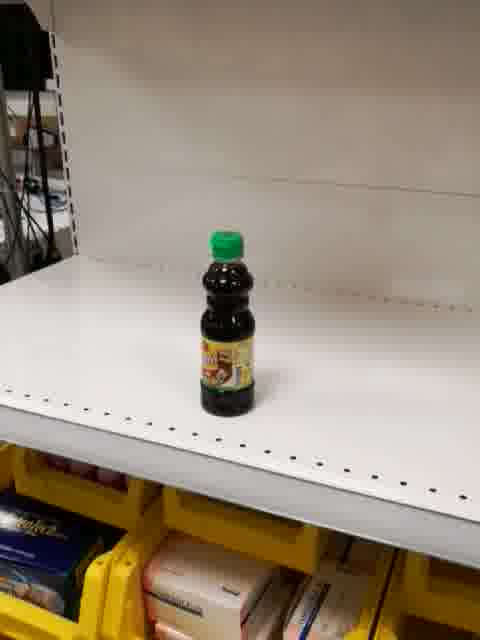cookingoil: (199, 229, 256, 418)
